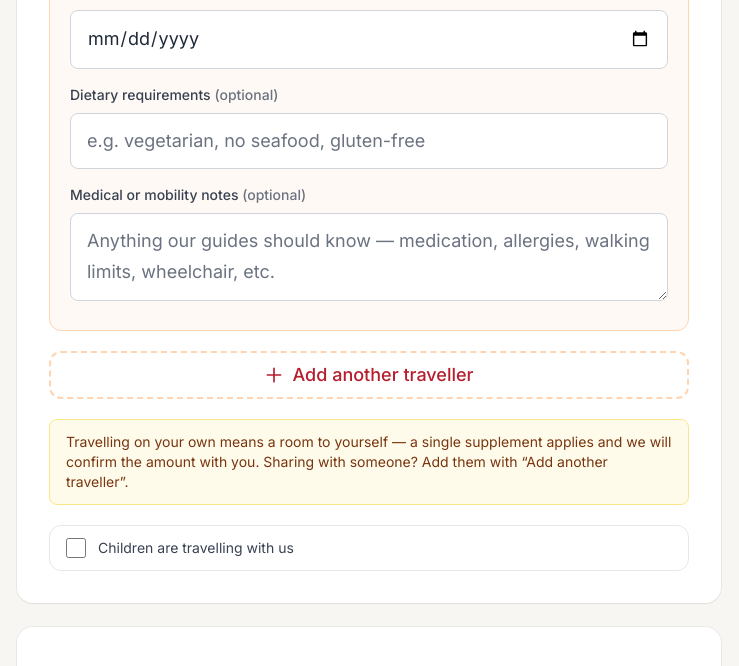
Test: single supplement › reveals the per-traveller room selects when Share a room instead is clicked
(page scrolled)
Click the button "Add another traveller" at {"x": 369, "y": 375}, box [49,351,689,399]
(page scrolled)
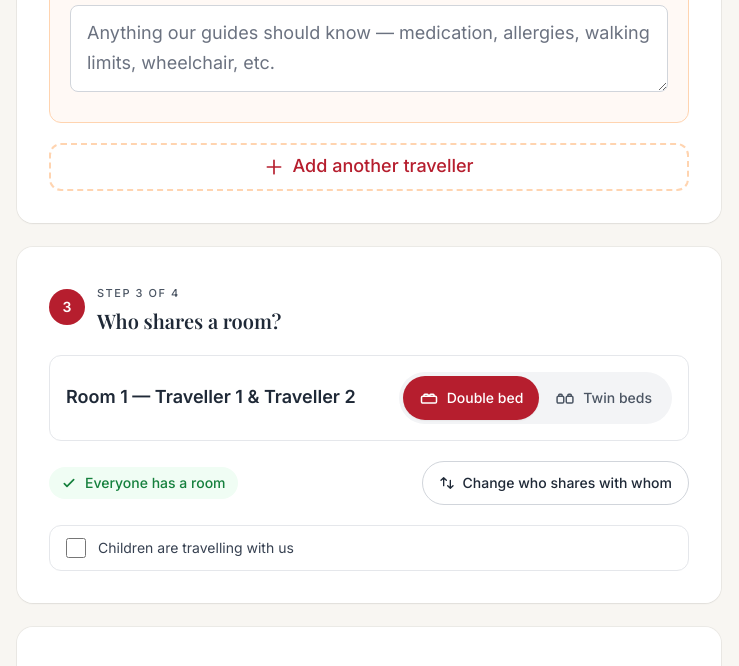
Click the button "Add another traveller" at {"x": 369, "y": 167}, box [49,143,689,191]
(page scrolled)
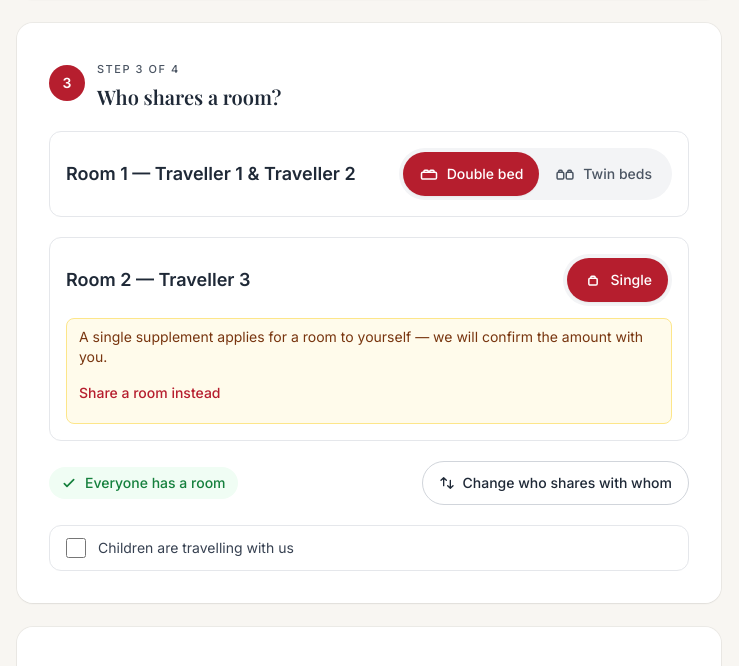
Click the button "Share a room instead" at {"x": 150, "y": 393}, box [79,371,220,415]
(page scrolled)
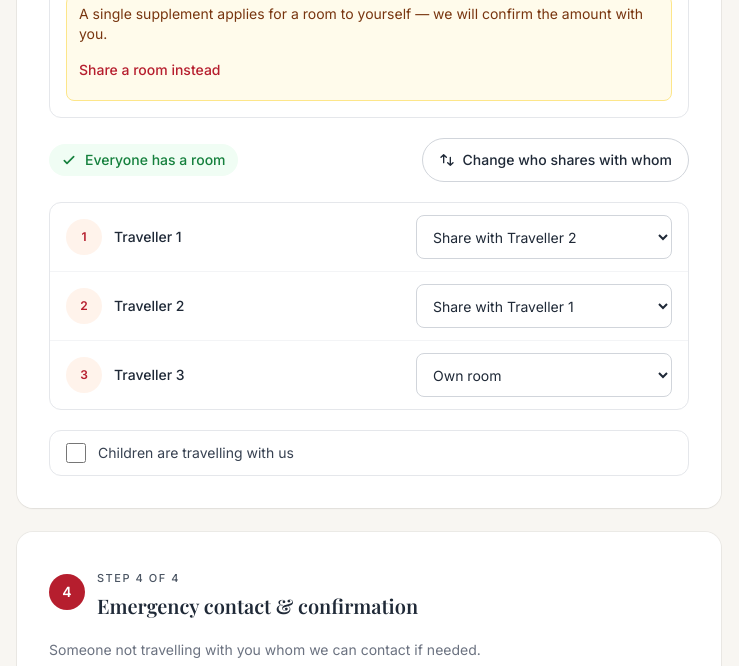
Now the dropdown named "Room for Traveller 3" is shown, box [416,353,672,397]
